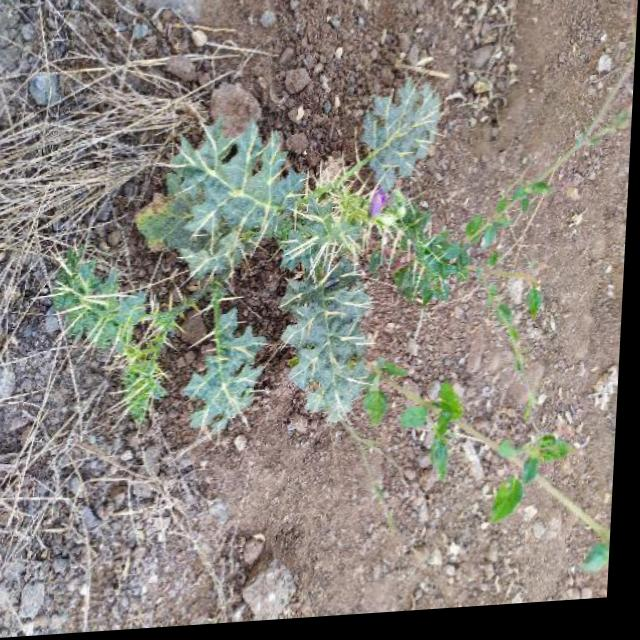weed: (57, 75, 480, 460)
